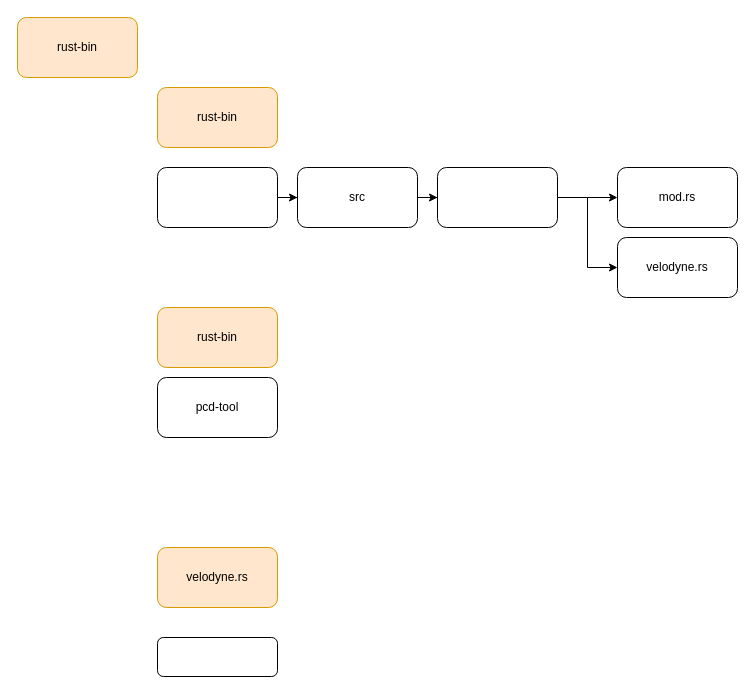
Some shapes in this 755 by 694 pixel diagram are drawn without their labels. Here are the shapes that lost their labels. From the top down, the centre of each, then its label:
At pixel 217 197: "lidar-scan".
At pixel 497 197: "data".
At pixel 217 656: "velodyne receiver".
